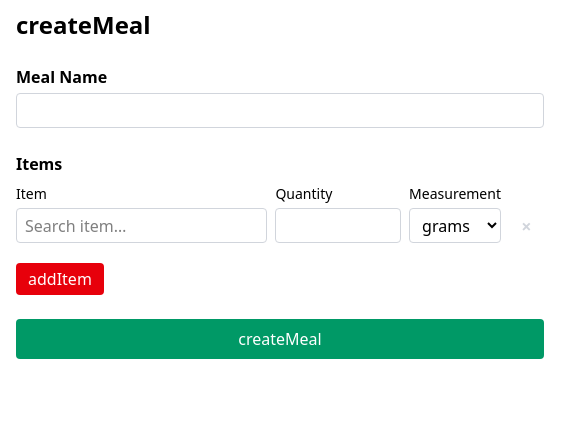
Test: CreateMealPage › shows validation error when submitting empty form
This screenshot has width=561, height=424.
Click the button "createMeal" at point(280, 339), box [16,319,544,359]
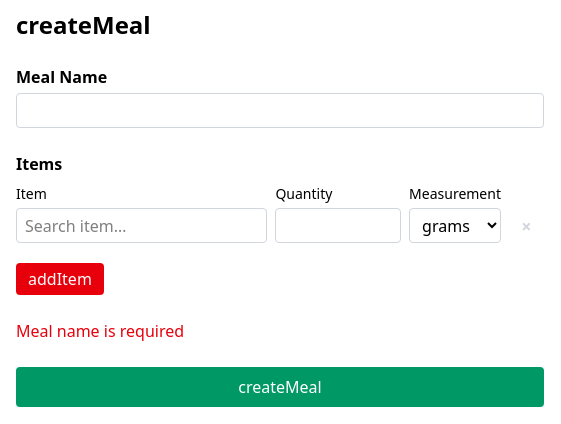
Result: the text "Meal name is required" is shown at [16,320,184,342]
